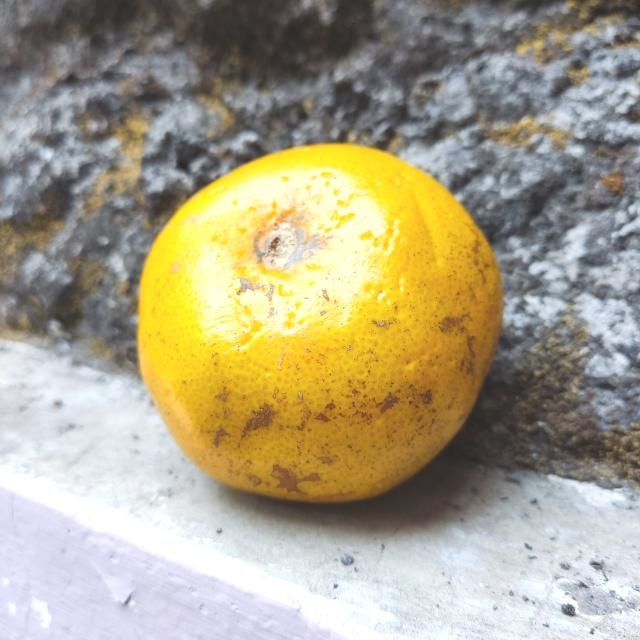agrume: (136, 142, 502, 502)
